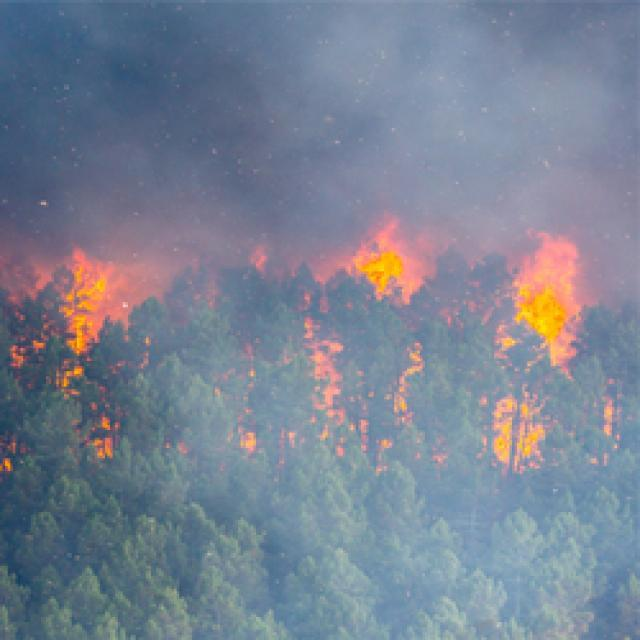Fire: (489, 222, 581, 469), (8, 247, 114, 390), (375, 340, 429, 478), (294, 314, 342, 448), (350, 219, 418, 306), (230, 347, 264, 454), (588, 394, 620, 472), (92, 419, 120, 462), (242, 242, 270, 278), (0, 440, 13, 476)
Smoke: (0, 0, 640, 242)
